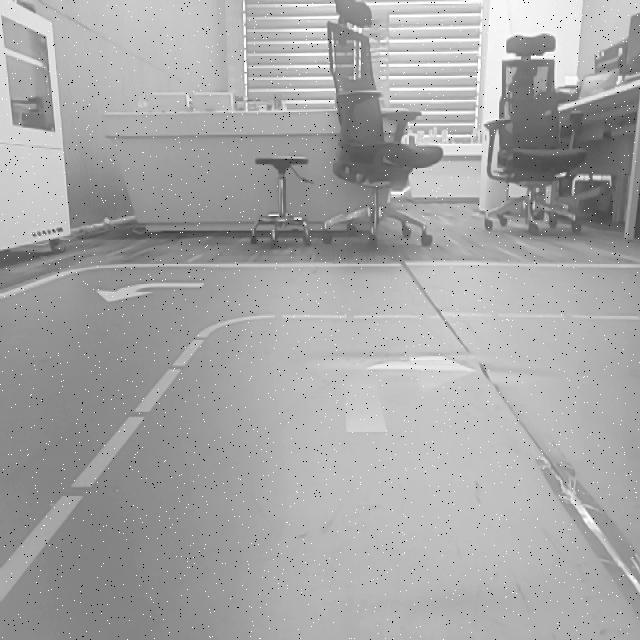left_lane: (0, 334, 209, 608)
